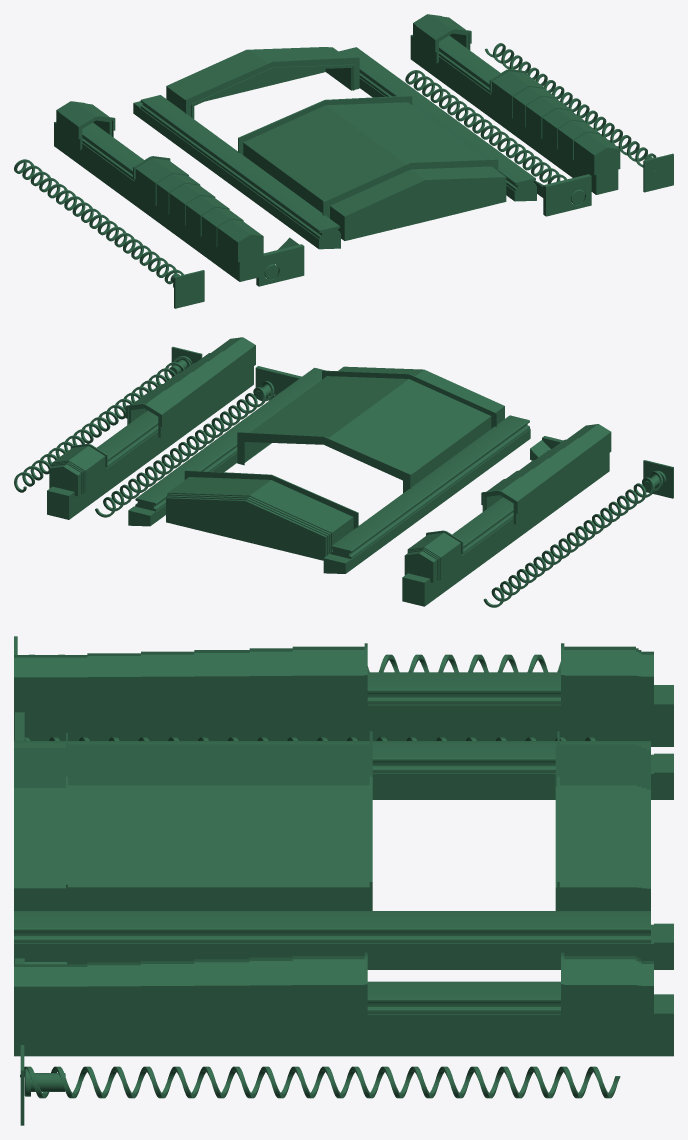
The model's file is ACC6.fbx.
3 views of the same model, one above another, from view 1: azimuth 30°, elevation 25°; view 2: azimuth 150°, elevation 25°; view 3: azimuth 270°, elevation 25° (orthographic). The views are drawn at different scales.
Parts seen in each view (by area): view 1: Object009, BODY_IN_PRAME_2, Rectangle270, Rectangle016, Rectangle269, Object007, Rectangle003, Line019, Object005, Object003, Line009, Line015 (+9 smaller); view 2: Object009, BODY_IN_PRAME_2, Rectangle270, Rectangle016, Rectangle269, Line019, Object007, Rectangle003, Object003, Object005, Line015, Line008 (+11 smaller); view 3: Object009, Rectangle003, Rectangle269, Rectangle016, Rectangle270, Object007, BODY_IN_PRAME_2, Object005, Object003, Line016, Line009, Line015 (+11 smaller).
Part boxes in pixels (box(x1,y1,x2,y2)): Object009: box(238, 95, 506, 240); BODY_IN_PRAME_2: box(14, 43, 673, 308); Rectangle270: box(133, 95, 340, 249); Rectangle016: box(54, 122, 262, 281); Rectangle269: box(410, 34, 619, 194); Object007: box(168, 47, 359, 116); Rectangle003: box(339, 47, 536, 201); Line019: box(166, 47, 352, 118); Object005: box(558, 120, 620, 175); Object003: box(201, 207, 263, 261); Line009: box(133, 156, 188, 205); Line015: box(415, 15, 471, 63); Object009: box(237, 366, 504, 493); BODY_IN_PRAME_2: box(14, 346, 673, 607); Rectangle270: box(323, 415, 530, 573); Rectangle016: box(402, 453, 609, 606); Rectangle269: box(47, 366, 253, 519); Line019: box(166, 497, 326, 560); Object007: box(167, 470, 358, 551); Rectangle003: box(128, 367, 325, 526); Object003: box(501, 424, 611, 497); Object005: box(146, 337, 255, 411); Line015: box(52, 443, 107, 493); Line008: box(407, 530, 463, 579); Object009: box(14, 731, 372, 910); Rectangle003: box(14, 911, 673, 969); Rectangle269: box(14, 981, 673, 1056); Rectangle016: box(14, 672, 673, 746); Rectangle270: box(14, 741, 673, 799); Object007: box(557, 731, 636, 910); BODY_IN_PRAME_2: box(14, 636, 620, 1125); Object005: box(14, 962, 140, 1022); Object003: box(14, 653, 140, 712); Line016: box(292, 952, 367, 1025); Line009: box(292, 643, 367, 715); Line015: box(561, 952, 635, 1025).
Bounding box in the file's own units: 3263 × 2095 × 461.
